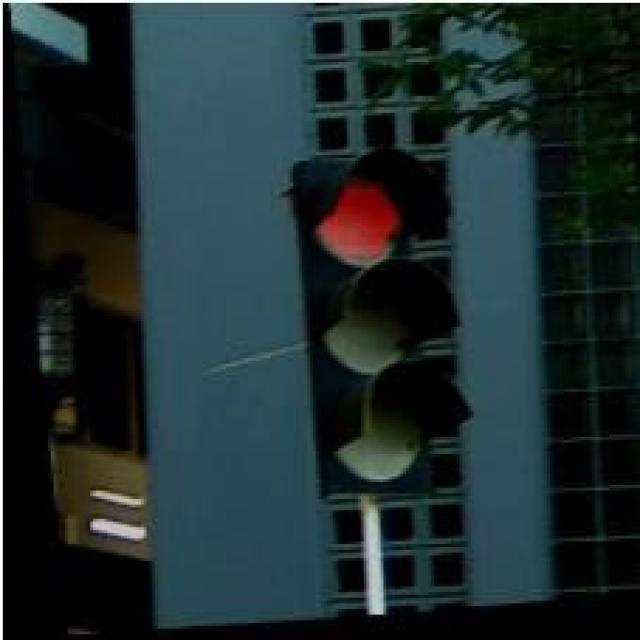red_light: (272, 151, 467, 504)
